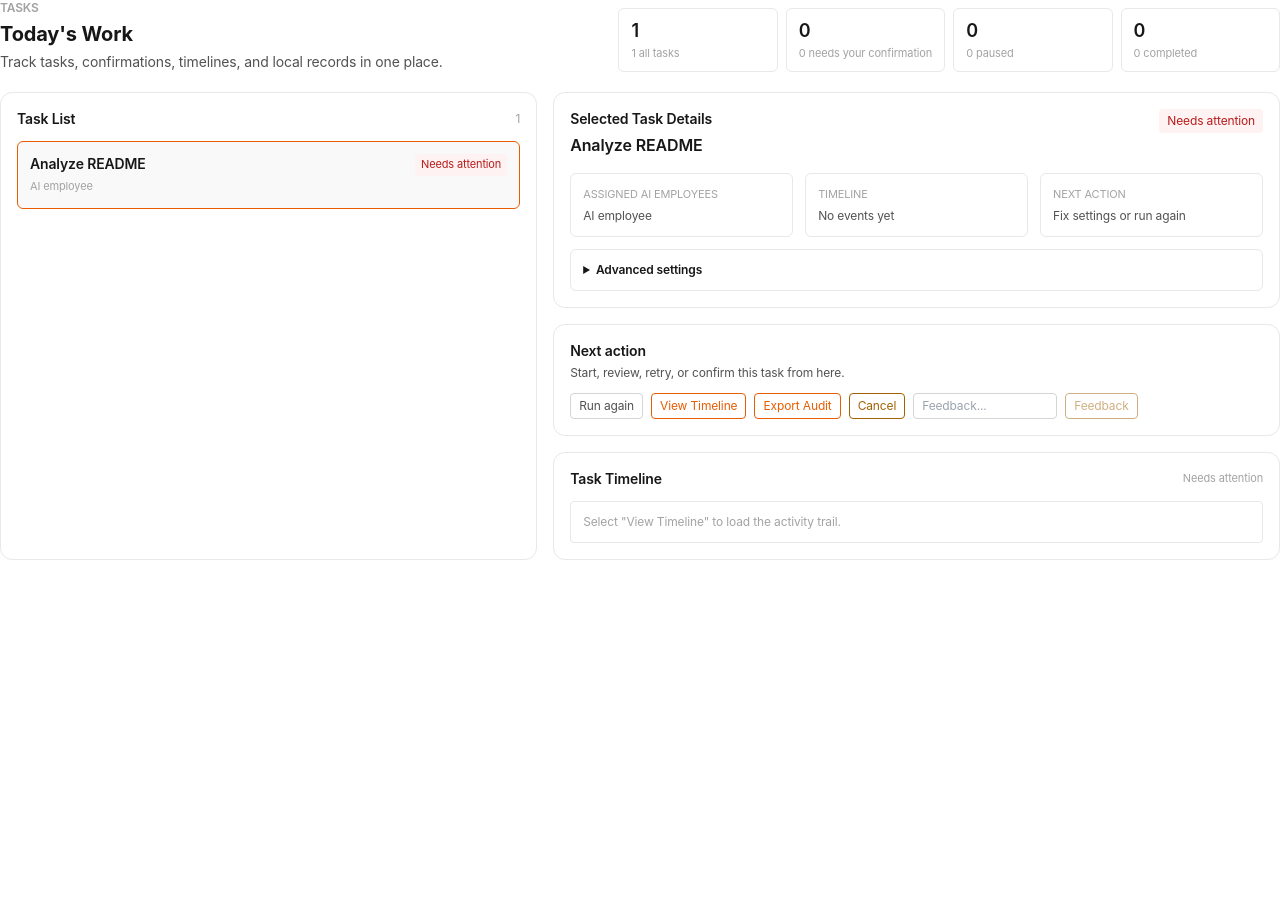
Test: WorkOrders › shows failed timeline events as founder-readable attention items
Click the button "View Timeline" at point(699, 406), box [651,393,746,419]
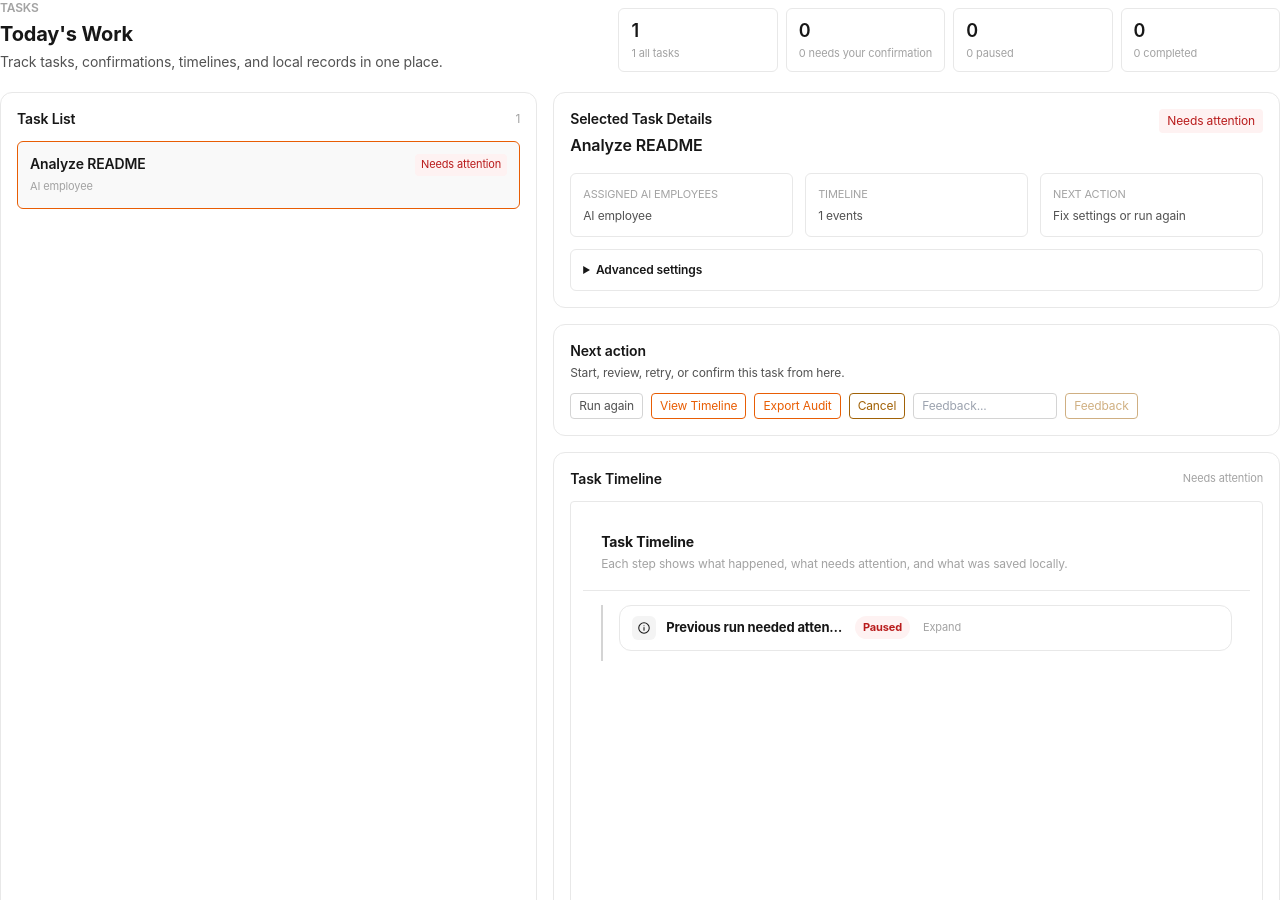
Expected: the text "Previous run needed attention" is shown, [666,617,845,638]
Expected: the text "Paused" is shown, [855,616,910,639]
